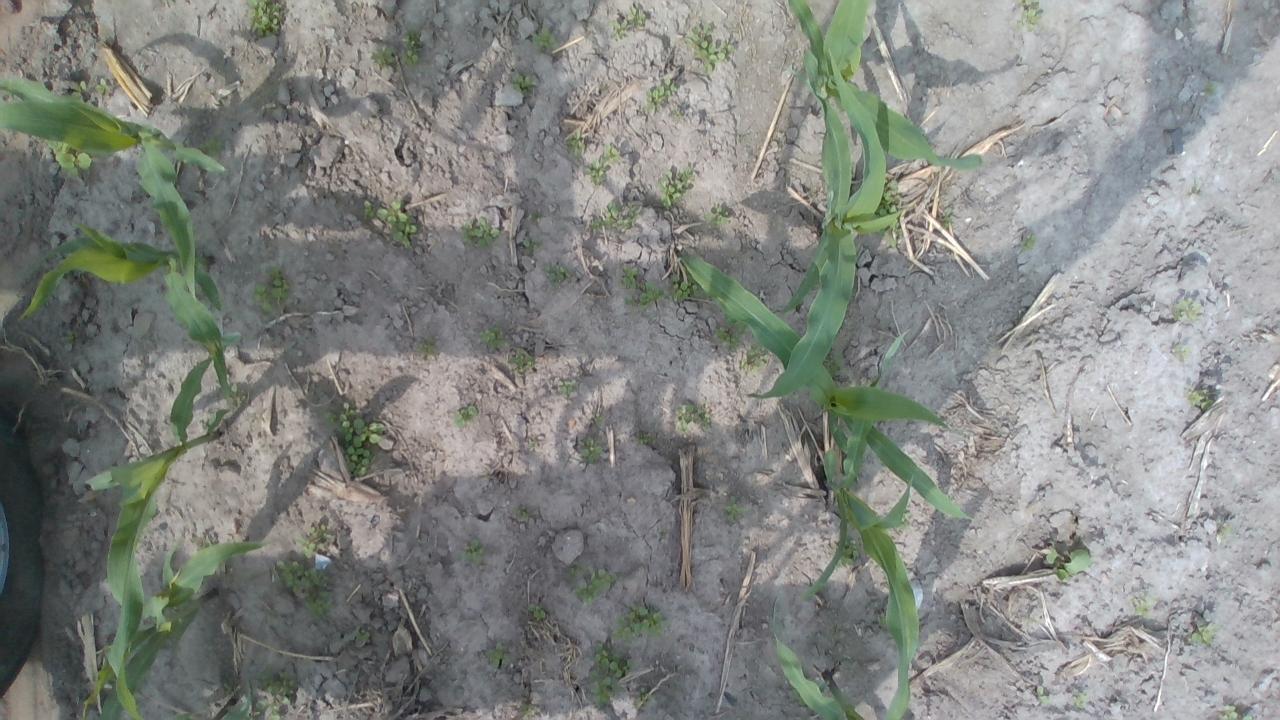Maize: (676, 250, 978, 526), (86, 331, 237, 720), (750, 41, 900, 402), (0, 77, 229, 302), (17, 221, 234, 405), (84, 535, 268, 720), (788, 0, 984, 173), (806, 446, 919, 720), (766, 598, 868, 720), (172, 691, 248, 720)
Weeds: (320, 399, 384, 478), (586, 640, 638, 706), (246, 664, 294, 720), (685, 22, 736, 72), (613, 602, 669, 642), (376, 199, 420, 248), (566, 562, 615, 605), (252, 266, 290, 318), (46, 138, 92, 178), (276, 558, 329, 592), (246, 0, 286, 39), (656, 168, 694, 208), (1046, 548, 1090, 581), (590, 202, 640, 230), (462, 216, 498, 250), (646, 78, 680, 114), (712, 316, 746, 352), (624, 283, 665, 312), (674, 401, 711, 433), (296, 528, 330, 558), (671, 273, 704, 302), (478, 323, 512, 351), (873, 179, 898, 217), (399, 30, 424, 67), (304, 591, 336, 618), (1016, 0, 1043, 31), (822, 347, 848, 378), (486, 640, 512, 670), (578, 436, 604, 464), (741, 344, 769, 370), (838, 540, 862, 570), (1171, 298, 1200, 322), (544, 265, 572, 289), (1192, 624, 1220, 647), (582, 160, 607, 185), (533, 25, 558, 50), (511, 72, 537, 96), (1187, 390, 1215, 411), (722, 494, 744, 520), (198, 136, 224, 158), (621, 261, 640, 289), (626, 0, 646, 26), (463, 541, 485, 564), (454, 406, 477, 428), (510, 350, 534, 371), (565, 132, 585, 156), (704, 206, 728, 226), (370, 47, 395, 66), (608, 18, 628, 40), (520, 238, 540, 256), (220, 670, 233, 696), (939, 206, 954, 228), (528, 602, 546, 620), (603, 142, 620, 160), (64, 328, 81, 346), (360, 199, 376, 218), (95, 79, 114, 95), (558, 379, 576, 395), (418, 338, 434, 356), (70, 80, 86, 98), (1135, 598, 1151, 616), (1020, 233, 1037, 249), (1036, 686, 1050, 704), (1222, 705, 1238, 720), (1173, 343, 1187, 360), (638, 432, 656, 445), (1218, 523, 1232, 538), (1074, 692, 1086, 709), (900, 510, 910, 530), (227, 383, 240, 398), (636, 694, 650, 706), (516, 509, 530, 521), (354, 630, 369, 641), (1206, 82, 1216, 95), (522, 703, 530, 719), (888, 239, 898, 250)
